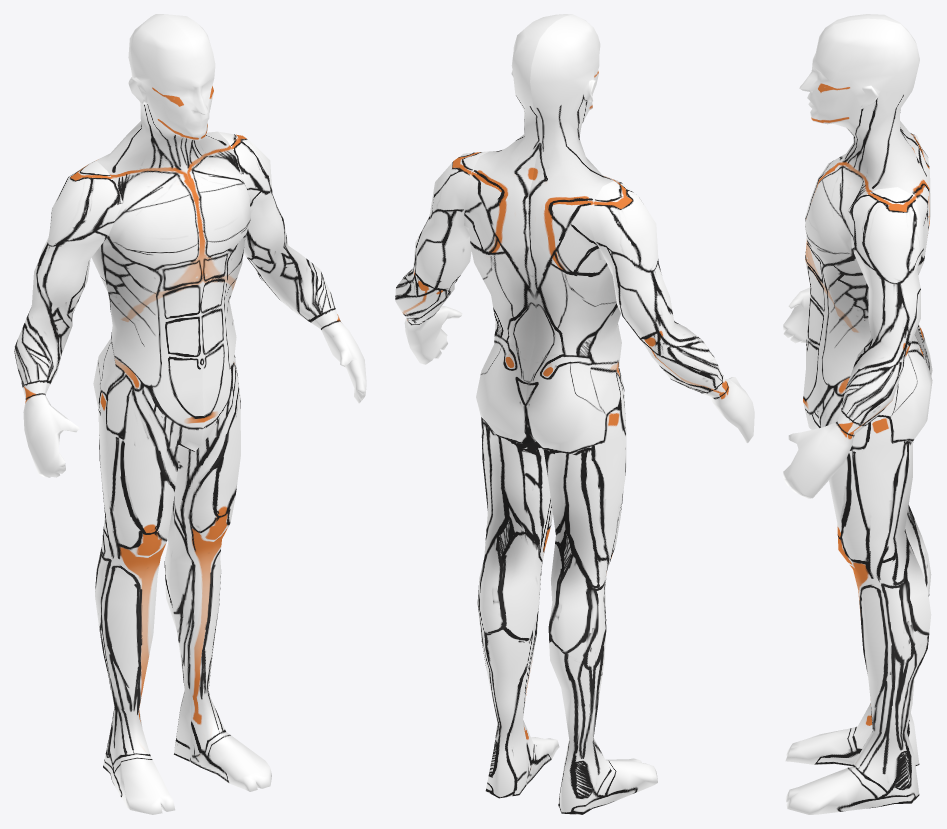
File: human_anatomy.glb
3 views of the same model, side by side, from view 1: azimuth 30°, elevation 25°; view 2: azimuth 150°, elevation 25°; view 3: azimuth 270°, elevation 25° (orthographic).
Parts seen in each view (by area): view 1: Object_2; view 2: Object_2; view 3: Object_2.
Part boxes in pixels (bbox=[...]): Object_2: bbox=[14, 14, 366, 814]; Object_2: bbox=[395, 14, 754, 814]; Object_2: bbox=[783, 14, 932, 814].
Size of the model in its own units: 9.9 by 21.44 by 3.81.
Materials: 1 (1 with a texture image).
